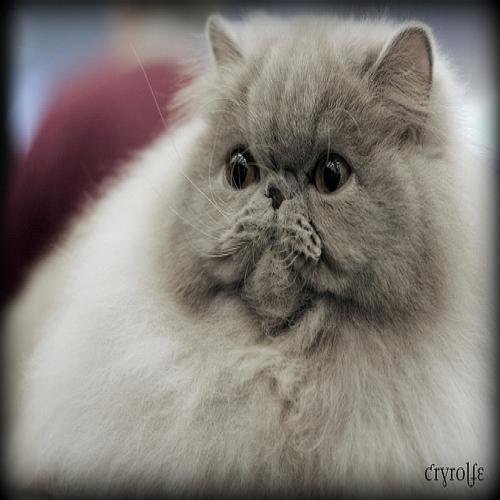persian: (177, 1, 445, 369)
